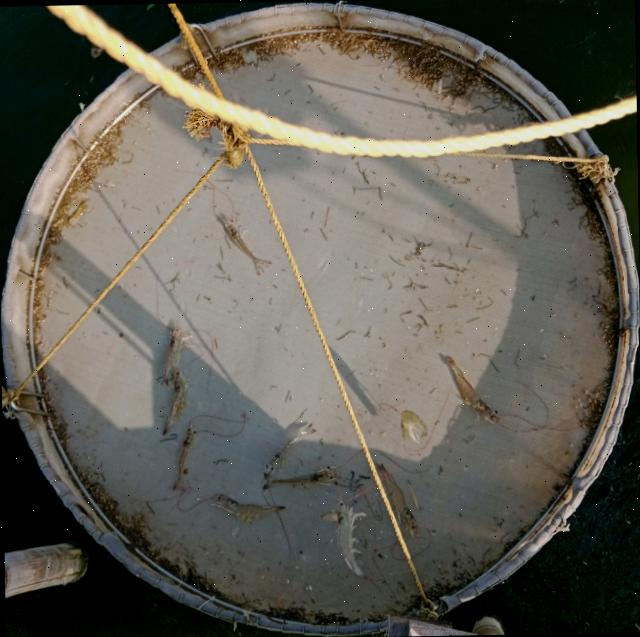shrimp: (441, 354, 499, 422), (321, 500, 365, 576), (216, 213, 270, 274), (263, 422, 315, 484), (375, 463, 417, 535), (213, 494, 285, 521), (157, 324, 189, 384), (262, 466, 339, 489), (172, 425, 195, 491), (163, 367, 185, 434), (401, 409, 427, 437)
